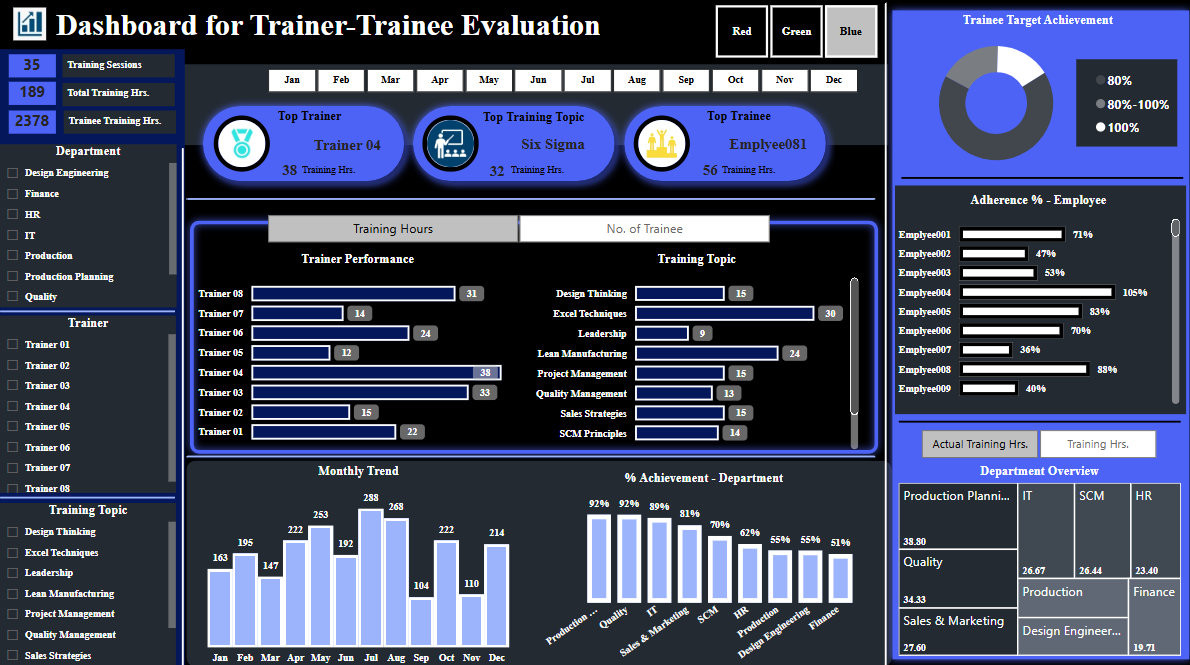

Layout of this report page (visuals, bound fields, positions):
{"tool":"powerbi","page":{"name":"RGB Dashboard","canvas":[1280,720],"ordinal":0},"visuals":[{"type":"card","fields":{"Values":["CountNonNull(tbl_TrainingRecords.Training Hrs.)"]},"box":[10,60,50,25],"z":0,"group":"g2"},{"type":"group","id":"g1","title":"Group 2","box":[207.5,105.7,235.2,100.2],"z":0,"group":"g3"},{"type":"shape","box":[207.5,105.7,235.2,100.2],"z":0,"group":"g1"},{"type":"shape","box":[432.2,105.7,235.5,100],"z":0,"group":"g4"},{"type":"shape","box":[657,105.7,235.5,100],"z":0,"group":"g5"},{"type":"shape","box":[194.8,229.4,751.7,265.5],"z":0},{"type":"card","fields":{"Values":["Sum(tbl_TrainingRecords.Training Hrs.)"]},"box":[10,90,50,25],"z":1000,"group":"g2"},{"type":"image","box":[228.3,126.1,60,60],"z":1000,"group":"g1"},{"type":"image","box":[451.9,126.2,60,60],"z":1000,"group":"g4"},{"type":"image","box":[677,126.2,60,60],"z":1000,"group":"g5"},{"type":"card","fields":{"Values":["Min(tbl_TrainingRecords.Trainer)"]},"box":[325.6,144.2,93.3,28.8],"z":1000,"group":"g3"},{"type":"shape","box":[199.1,494.9,754.6,220.7],"z":1000},{"type":"shape","box":[194.8,70.7,754.6,86.6],"z":2000},{"type":"textbox","box":[291.2,115.9,79.6,30.2],"z":2000,"group":"g1"},{"type":"textbox","box":[744.2,116,91.4,32.9],"z":2000,"group":"g5"},{"type":"card","fields":{"Values":["Sum(tbl_TraineeRecords.Training Hrs.)"]},"box":[10,120,50,25],"z":2000,"group":"g2"},{"type":"card","fields":{"Values":["Min(tbl_TrainingRecords.Training Topic)"]},"box":[533.7,141.7,115.7,31.4],"z":2000,"group":"g4"},{"type":"card","fields":{"Values":["Sum(tbl_TrainingRecords.Training Hrs.)"]},"box":[291.9,171.6,37.1,28.6],"z":2000,"group":"g3"},{"type":"shape","box":[946.5,5.8,333.3,709.8],"z":3000},{"type":"textbox","box":[68,60,120,25],"z":3000,"group":"g2"},{"type":"textbox","box":[534.4,172.2,82.9,20.7],"z":3000,"group":"g4"},{"type":"textbox","box":[759.2,172.2,82.9,20.7],"z":3000,"group":"g5"},{"type":"textbox","box":[310.5,173,82.9,20.7],"z":3000,"group":"g3"},{"type":"shape","box":[0,54.8,197.7,660.8],"z":4000},{"type":"textbox","box":[68,90.2,120,25],"z":4000,"group":"g2"},{"type":"card","fields":{"Values":["Sum(tbl_TrainingRecords.Training Hrs.)"]},"box":[503.7,164.5,58.6,44.3],"z":4000,"group":"g4"},{"type":"card","fields":{"Values":["Sum(tbl_TraineeRecords.Training Hrs.)"]},"box":[732.8,168.8,51.4,34.3],"z":4000,"group":"g5"},{"type":"textbox","box":[488,117.2,165.7,24.3],"z":5000,"group":"g4"},{"type":"textbox","box":[68.5,120,120,25],"z":5000,"group":"g2"},{"type":"card","fields":{"Values":["Min(tbl_TraineeRecords.Employee Name)"]},"box":[751.3,141.7,138.6,31.4],"z":5000,"group":"g5"},{"type":"clusteredBarChart","title":"Trainer Performance","fields":{"Category":["tbl_TrainingRecords.Trainer"],"Y":["Ref_Trainer.Trainer Slicer"]},"box":[209.7,271.4,345,210],"z":5000},{"type":"clusteredColumnChart","title":"Monthly Trend","fields":{"Y":["Sum(tbl_TraineeRecords.Training Hrs.)"],"Category":["tbl_TrainingRecords.Month Name"]},"box":[211.4,498.6,344.3,217.1],"z":6000},{"type":"clusteredColumnChart","title":"% Achievement - Department","fields":{"Category":["tbl_EmpDatabase.Department"],"Y":["tbl_EmpDatabase.Adherence %"]},"box":[580,505,344.8,210.6],"z":7000},{"type":"slicer","fields":{"Values":["Ref_Department.Option"]},"box":[964.3,460,290,34.3],"z":8000},{"type":"image","box":[10,5,45,45],"z":9000},{"type":"slicer","fields":{"Values":["Ref_Trainer.Option"]},"box":[265.7,230,575.7,32.9],"z":10000},{"type":"textbox","box":[54.3,5.7,634.3,60],"z":11000},{"type":"clusteredBarChart","title":"Training Topic","fields":{"Y":["Ref_Trainer.Trainer Slicer"],"Category":["tbl_TrainingRecords.Training Topic"]},"box":[571.4,271.4,345.7,211.4],"z":12000},{"type":"group","id":"g2","title":"M1","box":[10,60,178.5,85],"z":13000},{"type":"group","id":"g3","title":"Oval 1","box":[207.5,105.7,235.2,100.2],"z":14000},{"type":"group","id":"g4","title":"Oval 2","box":[432.2,105.7,235.5,103.1],"z":15000},{"type":"group","id":"g5","title":"Oval 3","box":[657,105.7,235.5,100],"z":16000},{"type":"shape","box":[1150.6,65.5,108.2,93.5],"z":16500},{"type":"donutChart","title":"Trainee Target Achievement","fields":{"Category":["tbl_EmpDatabase.Status"],"Y":["CountNonNull(tbl_EmpDatabase.Employee ID)"]},"box":[960,15.7,300,172.9],"z":17000},{"type":"shape","box":[960.9,444.4,301.5,15.9],"z":18000},{"type":"treemap","title":"Department Overview","fields":{"Group":["tbl_EmpDatabase.Department"],"Values":["Ref_Department.Depart Slicer"]},"box":[960.3,498.5,301.5,204.4],"z":19000},{"type":"slicer","title":"Department","fields":{"Values":["tbl_EmpDatabase.Department"]},"box":[0,155.7,188.6,174.3],"z":20000},{"type":"slicer","title":"Trainer","fields":{"Values":["tbl_TraineeRecords.Trainer"]},"box":[0,339.7,188.2,189.7],"z":21000},{"type":"slicer","title":"Training Topic","fields":{"Values":["tbl_TraineeRecords.Training Topic"]},"box":[0,539.7,188.2,177.9],"z":22000},{"type":"shape","box":[934.3,5.7,25.7,710],"z":23000},{"type":"shape","box":[190.4,160.1,8.7,559.8],"z":24000},{"type":"shape","box":[956.8,200.4,311.4,244.5],"z":24500},{"type":"clusteredBarChart","title":"Adherence % - Employee","fields":{"Category":["tbl_EmpDatabase.Employee Name"],"Y":["tbl_EmpDatabase.Adherence %"]},"box":[960,208.6,301.4,225.7],"z":25000},{"type":"slicer","title":"Department","fields":{"Values":["tbl_TrainingRecords.Month Name"]},"box":[266,73,670,29],"z":26000},{"type":"shape","box":[198.6,208.6,737.1,12.9],"z":27000},{"type":"shape","box":[198.6,484.3,737.1,12.9],"z":28000},{"type":"shape","box":[963.8,184.7,301.5,15.9],"z":29000},{"type":"slicer","title":"Department","fields":{"Values":["Color_Flag.Color"]},"box":[744.3,5.3,212.5,60.1],"z":30000},{"type":"shape","box":[0,331.8,187.6,7.2],"z":31000},{"type":"shape","box":[0,530.9,187.6,7.2],"z":32000}]}

Visuals, with their boxes in screenshot pixels (x1, y1, x2, y2), scaled from the page's 1280x720 canvas onto the 1190x665 screenshot:
card - CountNonNull(tbl_TrainingRecords.Training Hrs.): <region>9, 55, 56, 79</region>
"Group 2" group: <region>193, 98, 412, 190</region>
shape: <region>193, 98, 412, 190</region>
shape: <region>402, 98, 621, 190</region>
shape: <region>611, 98, 830, 190</region>
shape: <region>181, 212, 880, 457</region>
card - Sum(tbl_TrainingRecords.Training Hrs.): <region>9, 83, 56, 106</region>
image: <region>212, 116, 268, 172</region>
image: <region>420, 117, 476, 172</region>
image: <region>629, 117, 685, 172</region>
card - Min(tbl_TrainingRecords.Trainer): <region>303, 133, 389, 160</region>
shape: <region>185, 457, 887, 661</region>
shape: <region>181, 65, 883, 145</region>
textbox: <region>271, 107, 345, 135</region>
textbox: <region>692, 107, 777, 138</region>
card - Sum(tbl_TraineeRecords.Training Hrs.): <region>9, 111, 56, 134</region>
card - Min(tbl_TrainingRecords.Training Topic): <region>496, 131, 604, 160</region>
card - Sum(tbl_TrainingRecords.Training Hrs.): <region>271, 158, 306, 185</region>
shape: <region>880, 5, 1189, 661</region>
textbox: <region>63, 55, 175, 79</region>
textbox: <region>497, 159, 574, 178</region>
textbox: <region>706, 159, 783, 178</region>
textbox: <region>289, 160, 366, 179</region>
shape: <region>0, 51, 184, 661</region>
textbox: <region>63, 83, 175, 106</region>
card - Sum(tbl_TrainingRecords.Training Hrs.): <region>468, 152, 523, 193</region>
card - Sum(tbl_TraineeRecords.Training Hrs.): <region>681, 156, 729, 188</region>
textbox: <region>454, 108, 608, 131</region>
textbox: <region>64, 111, 175, 134</region>
card - Min(tbl_TraineeRecords.Employee Name): <region>698, 131, 827, 160</region>
"Trainer Performance" clusteredBarChart: <region>195, 251, 516, 445</region>
"Monthly Trend" clusteredColumnChart: <region>197, 461, 517, 661</region>
"% Achievement - Department" clusteredColumnChart: <region>539, 466, 860, 661</region>
slicer - Ref_Department.Option: <region>896, 425, 1166, 457</region>
image: <region>9, 5, 51, 46</region>
slicer - Ref_Trainer.Option: <region>247, 212, 782, 243</region>
textbox: <region>50, 5, 640, 61</region>
"Training Topic" clusteredBarChart: <region>531, 251, 853, 446</region>
"M1" group: <region>9, 55, 175, 134</region>
"Oval 1" group: <region>193, 98, 412, 190</region>
"Oval 2" group: <region>402, 98, 621, 193</region>
"Oval 3" group: <region>611, 98, 830, 190</region>
shape: <region>1070, 60, 1170, 147</region>
"Trainee Target Achievement" donutChart: <region>892, 15, 1171, 174</region>
shape: <region>893, 410, 1174, 425</region>
"Department Overview" treemap: <region>893, 460, 1173, 649</region>
"Department" slicer: <region>0, 144, 175, 305</region>
"Trainer" slicer: <region>0, 314, 175, 489</region>
"Training Topic" slicer: <region>0, 498, 175, 663</region>
shape: <region>869, 5, 892, 661</region>
shape: <region>177, 148, 185, 664</region>
shape: <region>890, 185, 1179, 411</region>
"Adherence % - Employee" clusteredBarChart: <region>892, 193, 1173, 401</region>
"Department" slicer: <region>247, 67, 870, 94</region>
shape: <region>185, 193, 870, 205</region>
shape: <region>185, 447, 870, 459</region>
shape: <region>896, 171, 1176, 185</region>
"Department" slicer: <region>692, 5, 890, 60</region>
shape: <region>0, 306, 174, 313</region>
shape: <region>0, 490, 174, 497</region>
